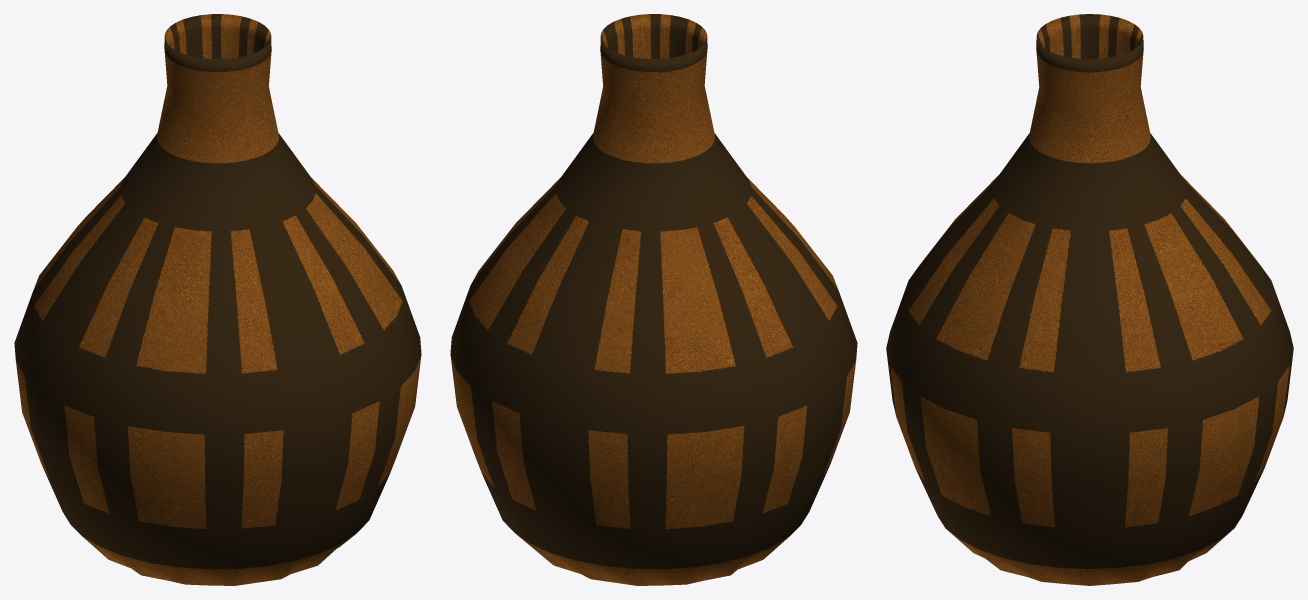
File: ceramicJug.fbx
The picture shows the model from 3 angles, left to right: view 1: azimuth 30°, elevation 25°; view 2: azimuth 150°, elevation 25°; view 3: azimuth 270°, elevation 25°; orthographic projection.
Parts seen in each view (by area): view 1: Cylinder; view 2: Cylinder; view 3: Cylinder.
Part boxes in pixels (x1,y1,x2,y2): Cylinder: (14, 14, 421, 585); Cylinder: (450, 14, 857, 585); Cylinder: (886, 14, 1293, 585).
Size of the model in its own units: 98.11 by 138 by 98.11.
